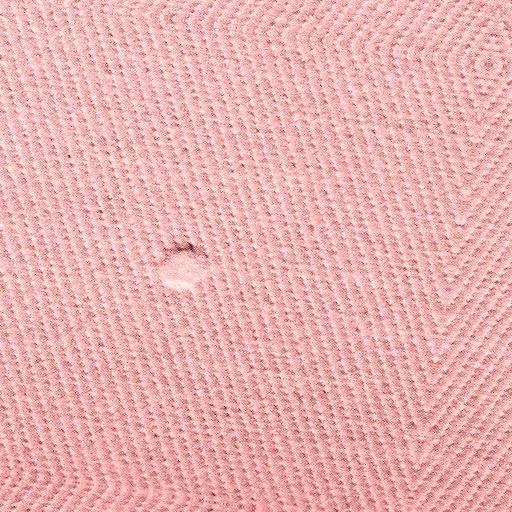knot: (152, 240, 218, 294)
